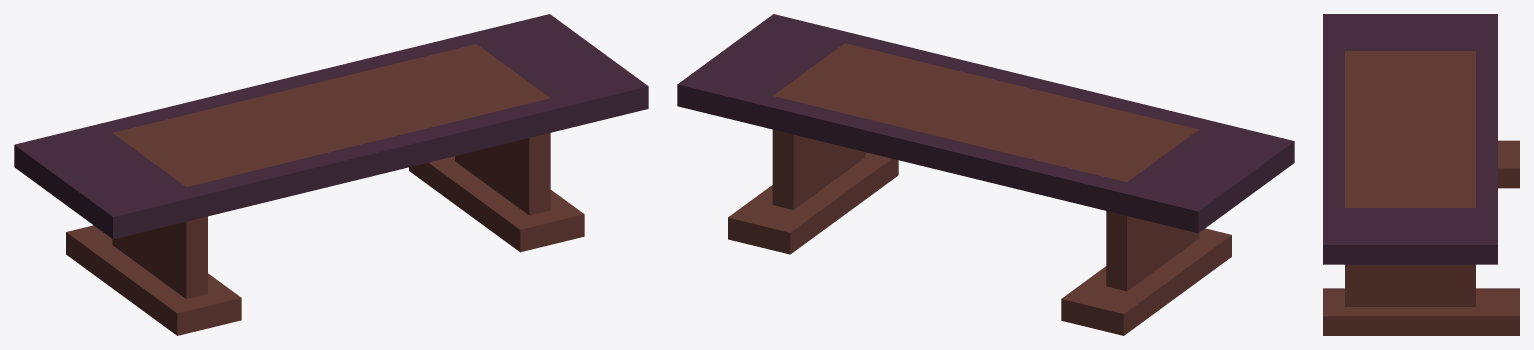
File: bench.obj
3 views of the same model, side by side, from view 1: azimuth 30°, elevation 25°; view 2: azimuth 150°, elevation 25°; view 3: azimuth 270°, elevation 25° (orthographic). The views are drawn at different scales.
Size of the model in its own units: 2.5 by 0.6 by 0.9.
1 material, 1 textured.
